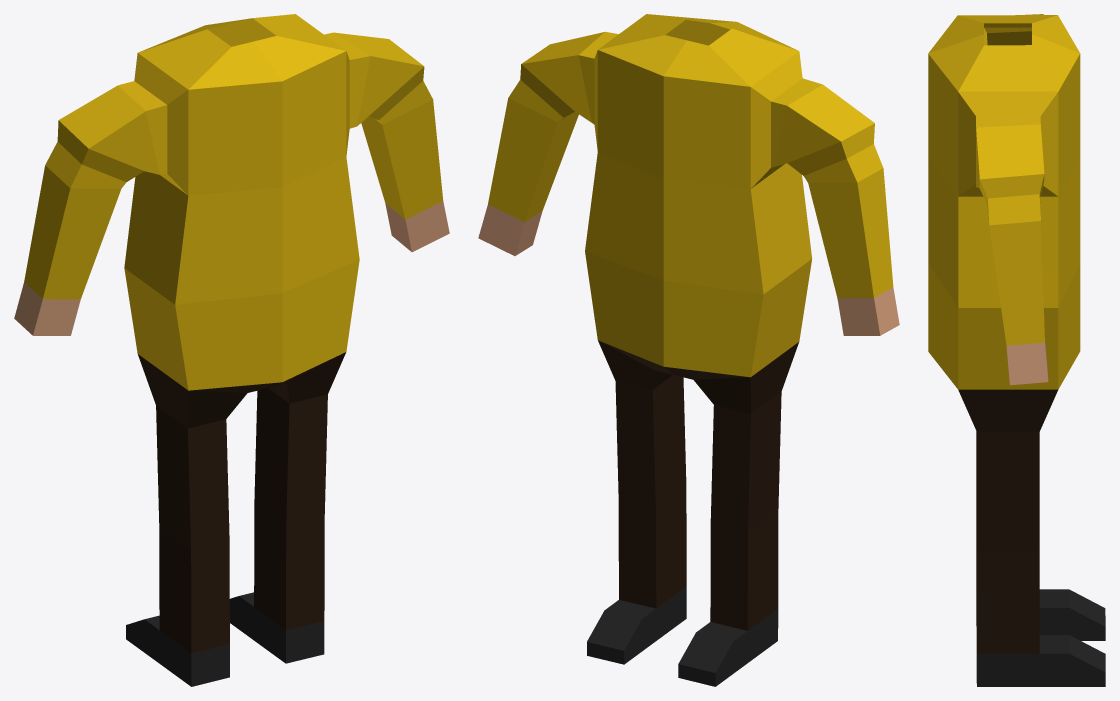
File: character_student_body.obj
3 renders of one model, left to right at view 1: azimuth 30°, elevation 25°; view 2: azimuth 150°, elevation 25°; view 3: azimuth 270°, elevation 25°, orthographic. The views are drawn at different scales.
Visible parts, largest first — view 1: Cube; view 2: Cube; view 3: Cube.
Part boxes in pixels (box(x1,y1,x2,y2)): Cube: box(14, 14, 449, 686); Cube: box(478, 14, 899, 686); Cube: box(928, 14, 1105, 686).
Size of the model in its own units: 0.9062 by 1.3 by 0.3372.
Materials: 1 (1 with a texture image).
